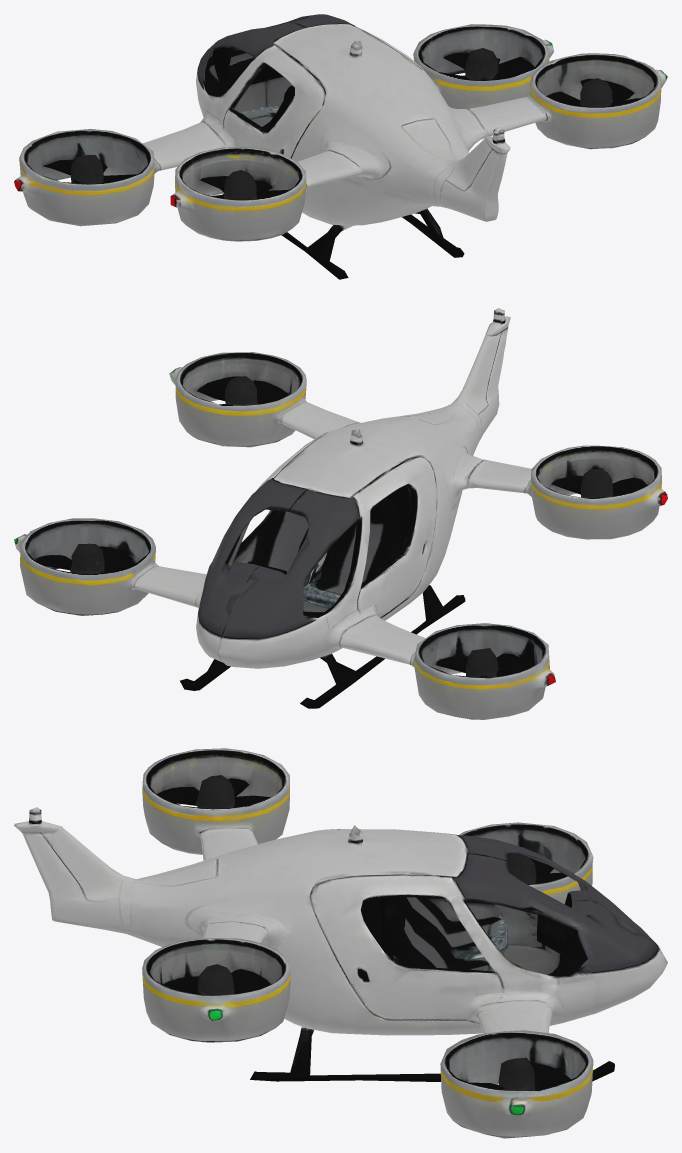
Rendered from traffic-airtaxi.glb.
3 views of the same model, one above another, from view 1: azimuth 30°, elevation 25°; view 2: azimuth 150°, elevation 25°; view 3: azimuth 270°, elevation 25° (orthographic). The views are drawn at different scales.
Parts seen in each view (by area): view 1: traffic-airtaxi; view 2: traffic-airtaxi; view 3: traffic-airtaxi.
Boxes of the visible parts, left/top/right/bottom form: traffic-airtaxi: left=14, top=14, right=667, bottom=279; traffic-airtaxi: left=14, top=308, right=667, bottom=719; traffic-airtaxi: left=14, top=748, right=667, bottom=1138.
Size of the model in its own units: 6 by 2.32 by 5.62.
1 material, 1 textured.
